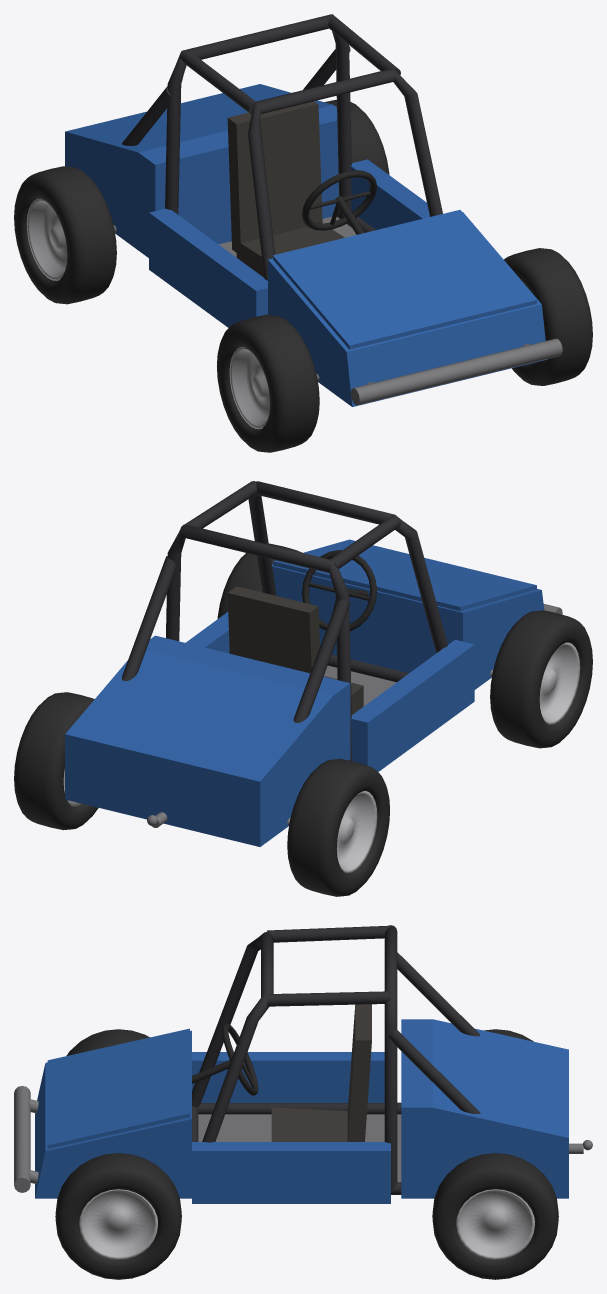
Rendered from buggy.glb.
The picture shows the model from 3 angles, top to bottom: view 1: azimuth 30°, elevation 25°; view 2: azimuth 150°, elevation 25°; view 3: azimuth 270°, elevation 25°; orthographic projection. The views are drawn at different scales.
Visible parts, largest first — view 1: carrosserie, capot, chassis, siege_conducteur, roue_arriere_droite, roue_avant_droite, roue_avant_gauche, volant, roue_arriere_gauche; view 2: carrosserie, chassis, roue_avant_droite, roue_arriere_droite, roue_arriere_gauche, capot, siege_conducteur, volant, roue_avant_gauche; view 3: carrosserie, chassis, roue_arriere_gauche, roue_avant_gauche, capot, siege_conducteur, volant, roue_avant_droite.
Boxes of the visible parts, box(x1,y1,x2,y2) form: carrosserie: box(65, 84, 547, 406); capot: box(273, 210, 536, 349); chassis: box(113, 14, 562, 405); siege_conducteur: box(227, 101, 344, 277); roue_arriere_droite: box(14, 166, 116, 304); roue_avant_droite: box(217, 314, 319, 452); roue_avant_gauche: box(504, 248, 592, 385); volant: box(302, 170, 376, 234); roue_arriere_gauche: box(324, 99, 389, 174); carrosserie: box(65, 564, 544, 846); chassis: box(122, 481, 562, 827); roue_avant_droite: box(490, 610, 592, 748); roue_arriere_droite: box(287, 759, 389, 896); roue_arriere_gauche: box(14, 692, 98, 830); capot: box(273, 539, 536, 610); siege_conducteur: box(227, 586, 363, 714); volant: box(302, 550, 376, 631); roue_avant_gauche: box(217, 543, 301, 618); carrosserie: box(35, 1019, 568, 1203); chassis: box(14, 925, 592, 1194); roue_arriere_gauche: box(432, 1153, 558, 1279); roue_avant_gauche: box(55, 1153, 181, 1279); capot: box(47, 1028, 189, 1148); siege_conducteur: box(271, 1004, 371, 1141); volant: box(192, 1023, 258, 1095); roue_avant_droite: box(66, 1029, 149, 1055).
Size of what is drawn, in the model's own units: 1.62 by 1.33 by 2.76.
